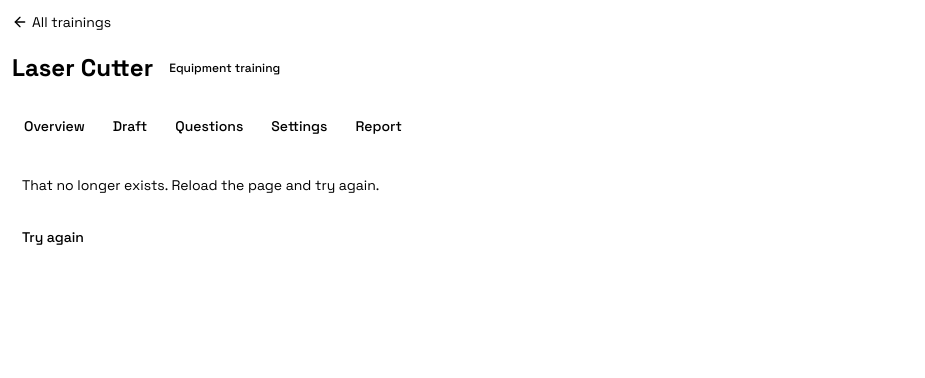
Scenario: TrainingPreview › says what went wrong when the preview cannot be loaded, and can try again
The width and height of the screenshot is (925, 378).
Expected: the heading "Laser Cutter" is shown, [12,52,153,84]
Click the button "Try again" at (53, 237), box [12,215,94,259]
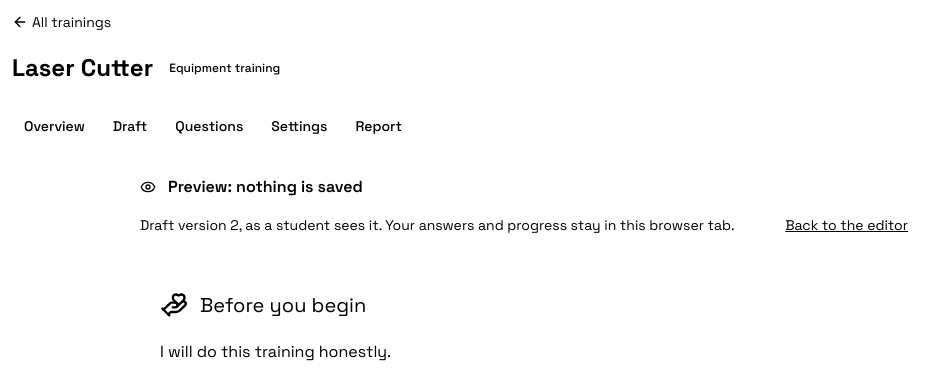
Now the text "Preview: nothing is saved" is shown, box [168,175,363,199]
